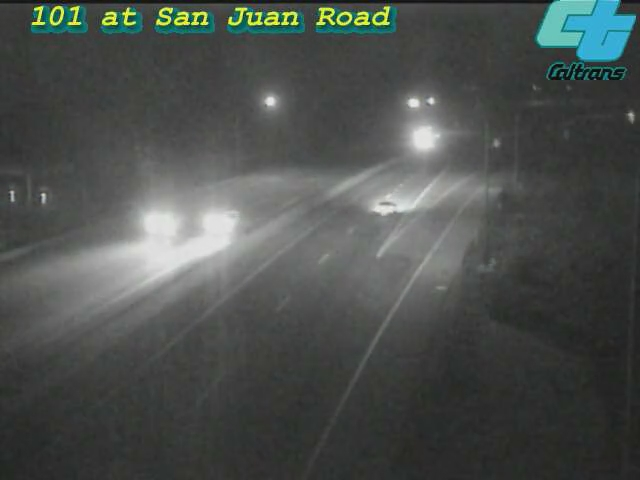vehicle: (123, 185, 203, 265), (177, 185, 257, 265), (344, 169, 424, 249), (393, 114, 443, 164)
